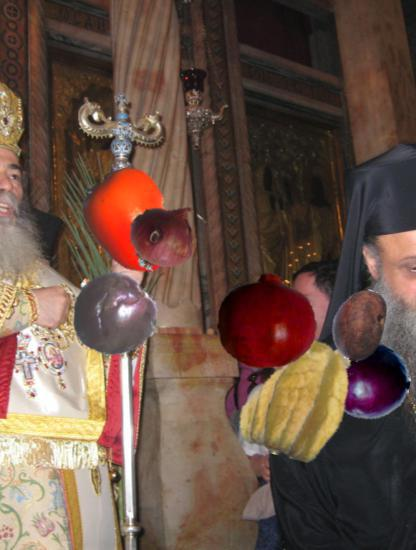Chestnut: (323, 288, 396, 361)
Kaki: (76, 169, 184, 277)
Onion: (120, 196, 206, 282)
Passion: (69, 272, 157, 360)
Physalis: (235, 335, 359, 459)
Plum: (329, 340, 410, 421)
Pomegranate: (217, 270, 318, 371)
